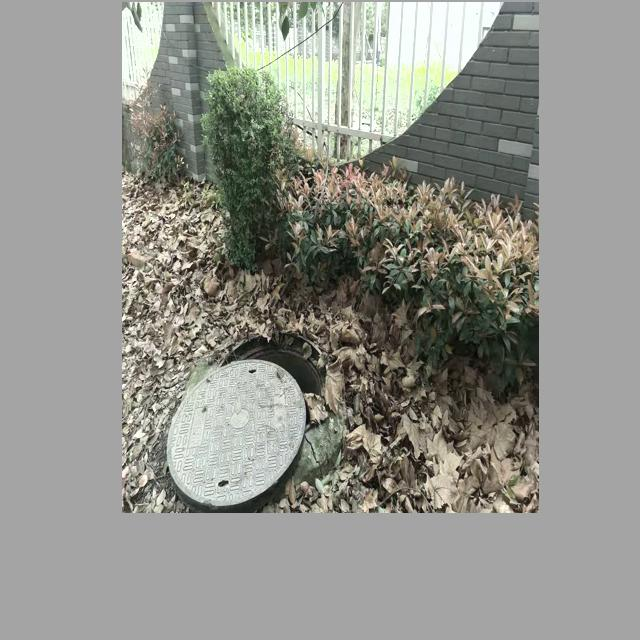uncovered: (164, 325, 325, 513)
